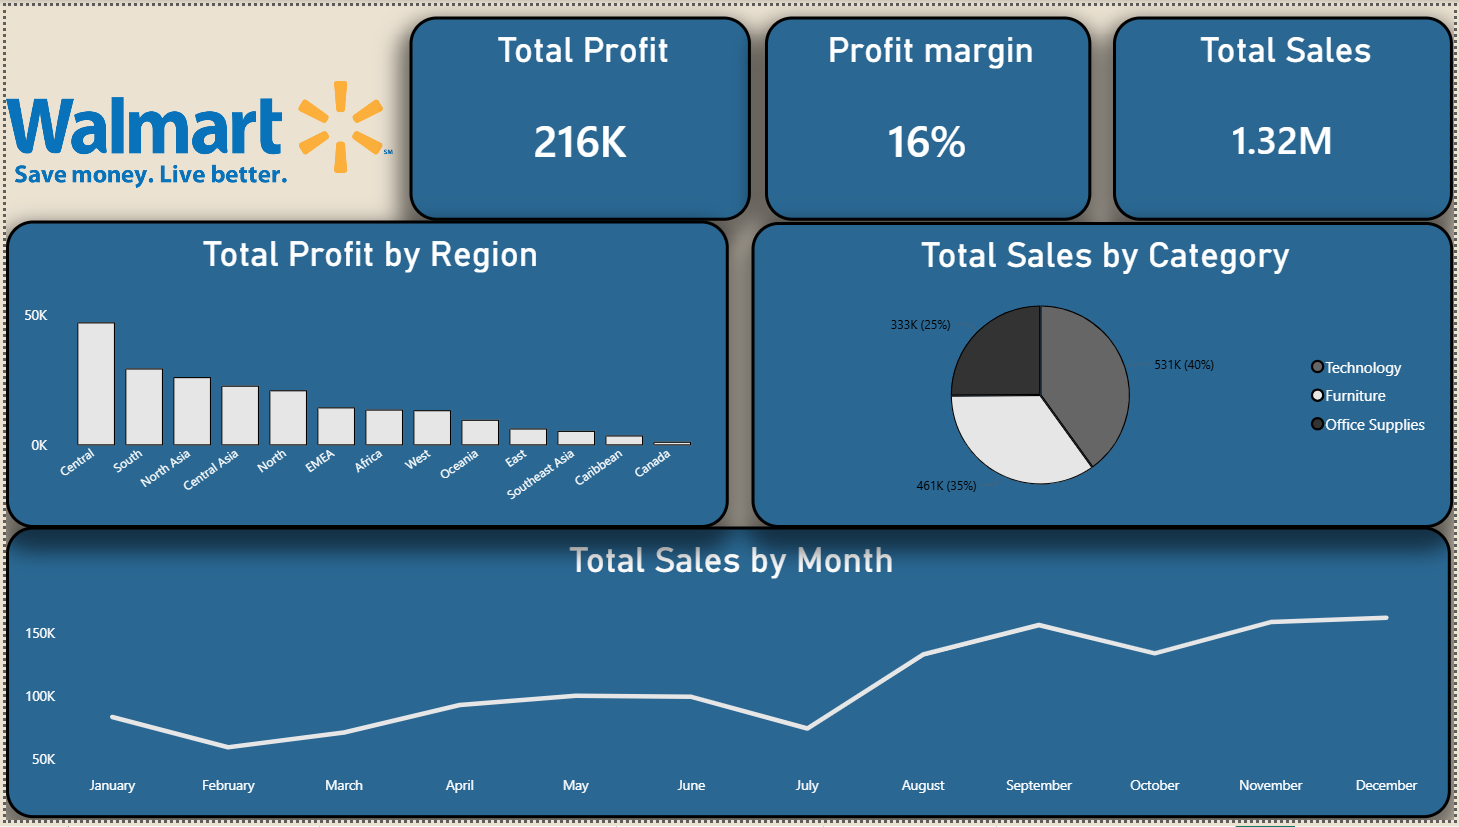

The page's visual inventory and layout, read from the dashboard file:
{"tool":"powerbi","page":{"name":"Sales & Profit Overview","canvas":[1280,720],"ordinal":0},"visuals":[{"type":"image","box":[0,0,342,226.8],"z":0},{"type":"cardVisual","title":"Total Profit","fields":{"Data":["_KPI.Total Profit"]},"box":[356.7,9.1,302,180.6],"z":1000},{"type":"cardVisual","title":"Total Sales","fields":{"Data":["_KPI.Total Sales"]},"box":[979,9.1,300.5,180.6],"z":2000},{"type":"cardVisual","title":"Profit margin","fields":{"Data":["_KPI.Profit Margin"]},"box":[670.9,9.1,288.4,180.6],"z":3000},{"type":"lineChart","fields":{"Category":["DimDate.Date.Variation.Date Hierarchy.Year","DimDate.Date.Variation.Date Hierarchy.Quarter","DimDate.Date.Variation.Date Hierarchy.Month","DimDate.Date.Variation.Date Hierarchy.Day"],"Y":["_KPI.Total Sales"]},"box":[0,460.4,1278,258.3],"z":4000},{"type":"pieChart","fields":{"Category":["DimProduct.Category"],"Y":["_KPI.Total Sales"]},"box":[648.9,189.9,620,270.5],"z":5000},{"type":"columnChart","fields":{"Category":["DimRegion.Region"],"Y":["_KPI.Total Profit"]},"box":[10.7,189.3,616.8,271.8],"z":6000}]}

Visuals, with their boxes in screenshot pixels (x1, y1, x2, y2), scaled from the page's 1280x720 canvas onto the 1459x827 screenshot:
image: bbox=(0, 0, 390, 261)
"Total Profit" cardVisual: bbox=(407, 10, 751, 218)
"Total Sales" cardVisual: bbox=(1116, 10, 1458, 218)
"Profit margin" cardVisual: bbox=(765, 10, 1093, 218)
lineChart - DimDate.Date.Variation.Date Hierarchy.Year x DimDate.Date.Variation.Date Hierarchy.Quarter: bbox=(0, 529, 1457, 826)
pieChart - DimProduct.Category x _KPI.Total Sales: bbox=(740, 218, 1446, 529)
columnChart - DimRegion.Region x _KPI.Total Profit: bbox=(12, 217, 715, 530)
